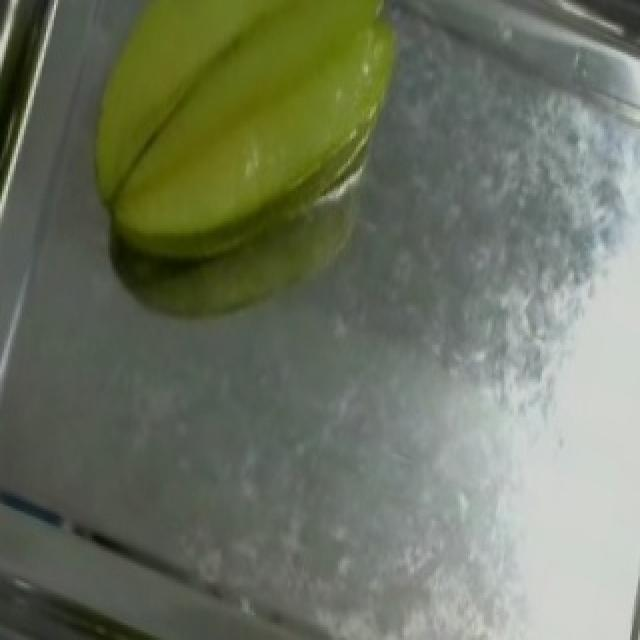fruit: (60, 0, 450, 283)
